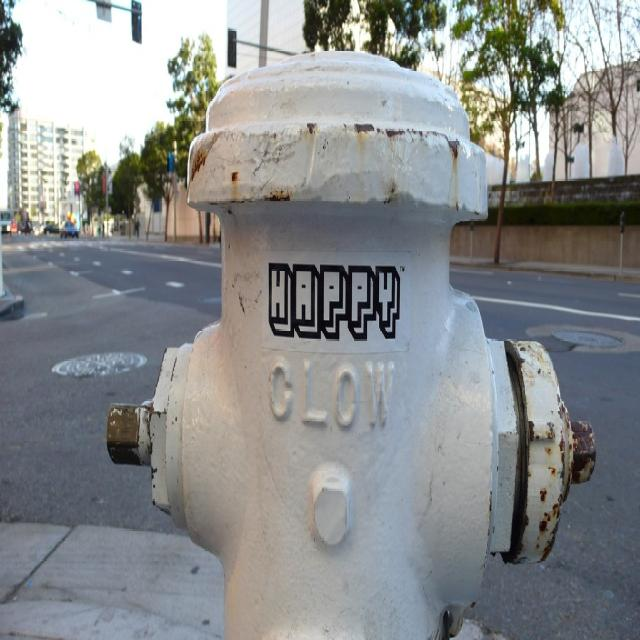fire_hydrant: (108, 50, 598, 639)
